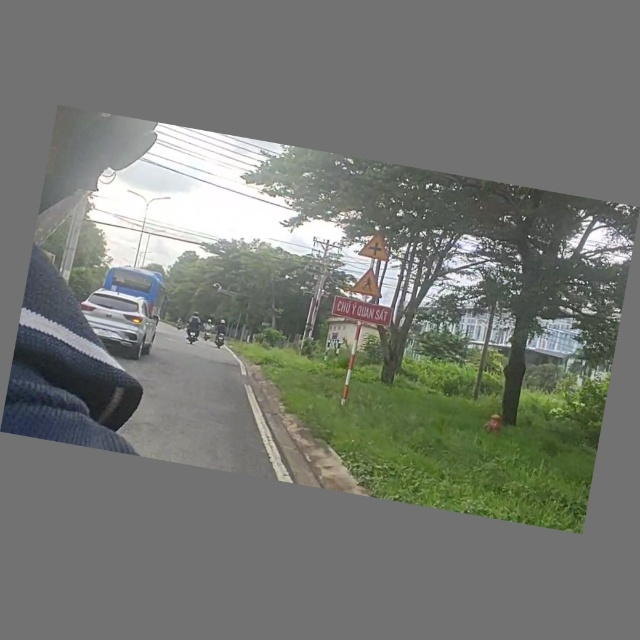W.205a: (356, 231, 397, 266)
W.224: (347, 264, 389, 302)
